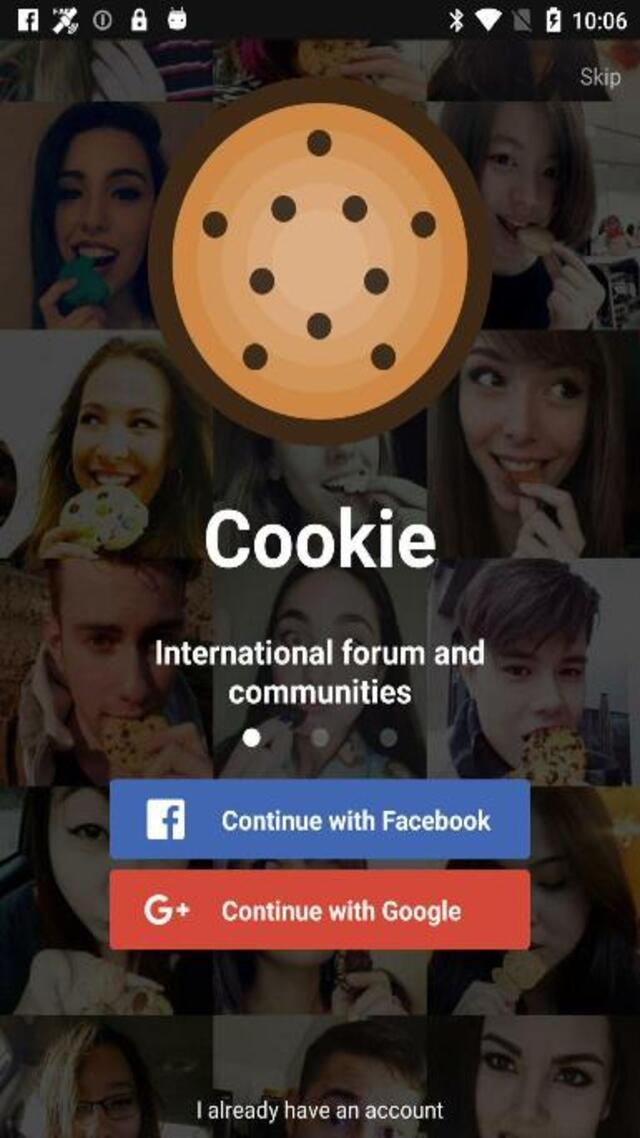Icon: (138, 891, 192, 932), (143, 794, 184, 842)
Image: (145, 76, 492, 448)
Text: (207, 507, 436, 567), (153, 637, 490, 671), (217, 803, 493, 834), (215, 896, 466, 928), (224, 677, 417, 710), (198, 1100, 444, 1123), (580, 67, 620, 90)
TextButton: (110, 780, 528, 860), (108, 869, 530, 948)
